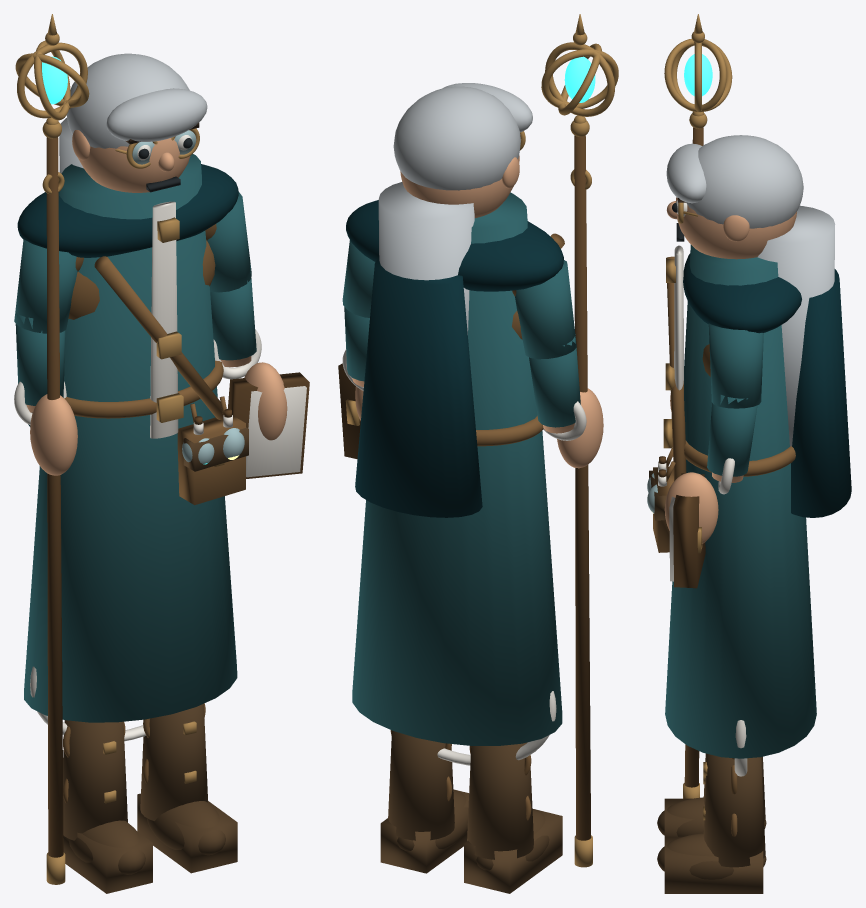
Rendered from 3D模型 char_mage.glb.
The picture shows the model from 3 angles, left to right: view 1: azimuth 30°, elevation 25°; view 2: azimuth 150°, elevation 25°; view 3: azimuth 270°, elevation 25°; orthographic projection. The views are drawn at different scales.
Parts seen in each view (by area): view 1: char_mage_robe, char_mage_pole, char_mage_mantle, char_mage_boot_L, char_mage_boot_R, char_mage_hair, char_mage_vtrim, char_mage_fringe, char_mage_slvu_L, char_mage_pages, char_mage_satchel, char_mage_head (+21 smaller); view 2: char_mage_robe, char_mage_capebk, char_mage_hair, char_mage_pole, char_mage_hairbk, char_mage_boot_L, char_mage_mantle, char_mage_boot_R, char_mage_slvu_L, char_mage_foot_L, char_mage_slvl_L, char_mage_foot_R (+15 smaller); view 3: char_mage_robe, char_mage_capebk, char_mage_hair, char_mage_hairbk, char_mage_boot_R, char_mage_mantle, char_mage_slvu_R, char_mage_foot_R, char_mage_slvl_R, char_mage_head, char_mage_cover, char_mage_fringe (+15 smaller).
Part boxes in pixels (x1,y1,x2,y2): char_mage_robe: (24,154,237,722); char_mage_pole: (46,137,63,857); char_mage_mantle: (17,164,238,257); char_mage_boot_L: (63,720,127,840); char_mage_boot_R: (140,703,207,820); char_mage_hair: (66,53,189,148); char_mage_vtrim: (150,201,178,438); char_mage_fringe: (106,88,207,141); char_mage_slvu_L: (14,239,77,333); char_mage_pages: (246,386,306,477); char_mage_satchel: (177,416,245,505); char_mage_head: (78,138,190,192); char_mage_robe: (352,192,562,745); char_mage_capebk: (355,259,482,517); char_mage_hair: (393,86,520,190); char_mage_pole: (574,135,591,840); char_mage_hairbk: (378,182,474,334); char_mage_boot_L: (467,742,533,859); char_mage_mantle: (346,200,563,291); char_mage_boot_R: (388,730,454,840); char_mage_slvu_L: (515,260,576,359); char_mage_foot_L: (464,809,562,893); char_mage_slvl_L: (529,334,580,427); char_mage_foot_R: (380,789,468,873); char_mage_robe: (665,244,816,758); char_mage_capebk: (791,269,851,517); char_mage_hair: (686,135,803,228); char_mage_hairbk: (757,205,835,446); char_mage_boot_R: (703,754,765,867); char_mage_mantle: (683,253,801,333); char_mage_slvu_R: (708,323,763,408); char_mage_foot_R: (664,836,763,893); char_mage_slvl_R: (707,395,757,476); char_mage_head: (675,197,796,259); char_mage_cover: (673,473,705,588); char_mage_fringe: (666,143,706,203).
Bounding box in the file's own units: 0.6664 × 1.98 × 0.456.
